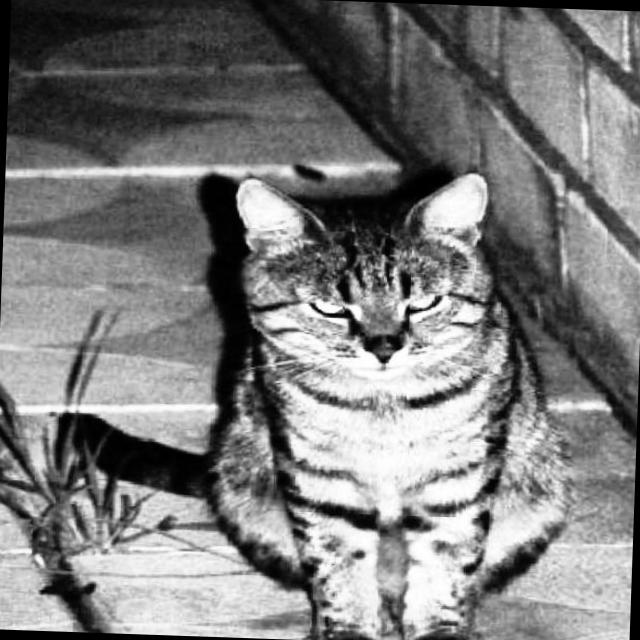Cat: (43, 150, 582, 640)
